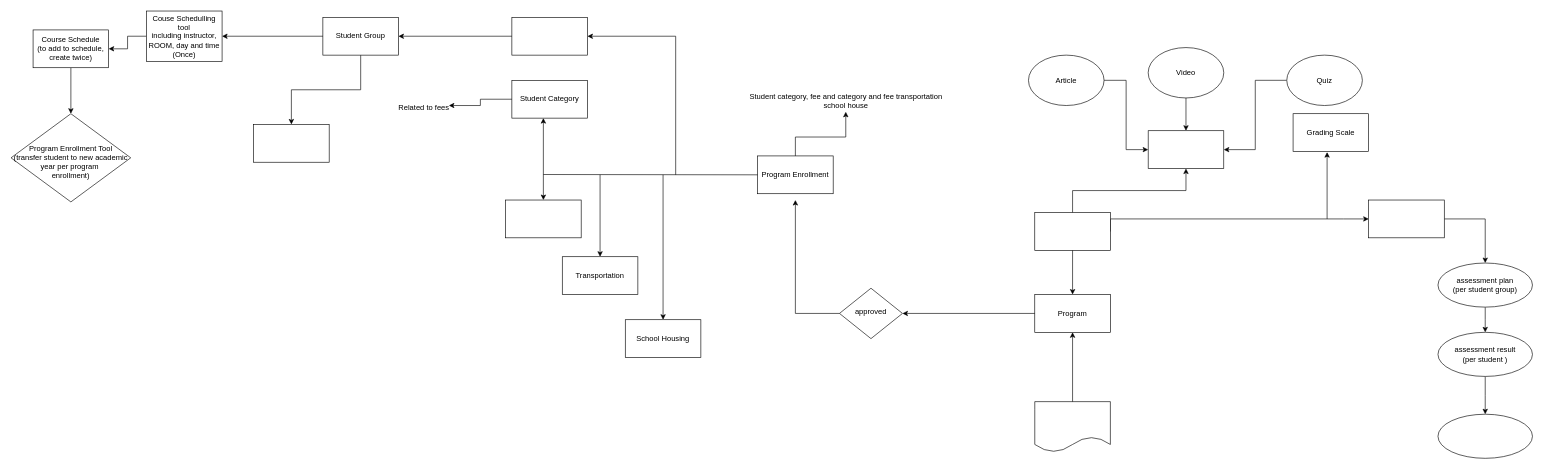
The diagram is 1544 pixels wide and 469 high, and some of its shapes have lost their labels. The centre of each missing label's shape, as x and y in pixels:
"assessment criteria" goes at (1406,218).
"assessment result tool (including all student group )" goes at (1484,436).
"Course" goes at (1072,231).
"Fees" goes at (543,218).
"Student Application" goes at (1072,426).
"Student attendance tool" goes at (291,143).
"Student Batch" goes at (549,36).
"Topics" goes at (1186,149).
